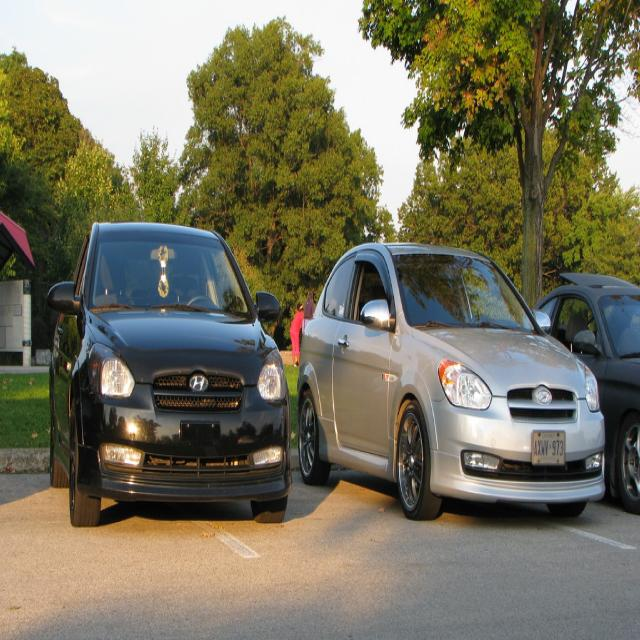Passenger Car: (297, 243, 604, 522), (50, 221, 291, 531)
